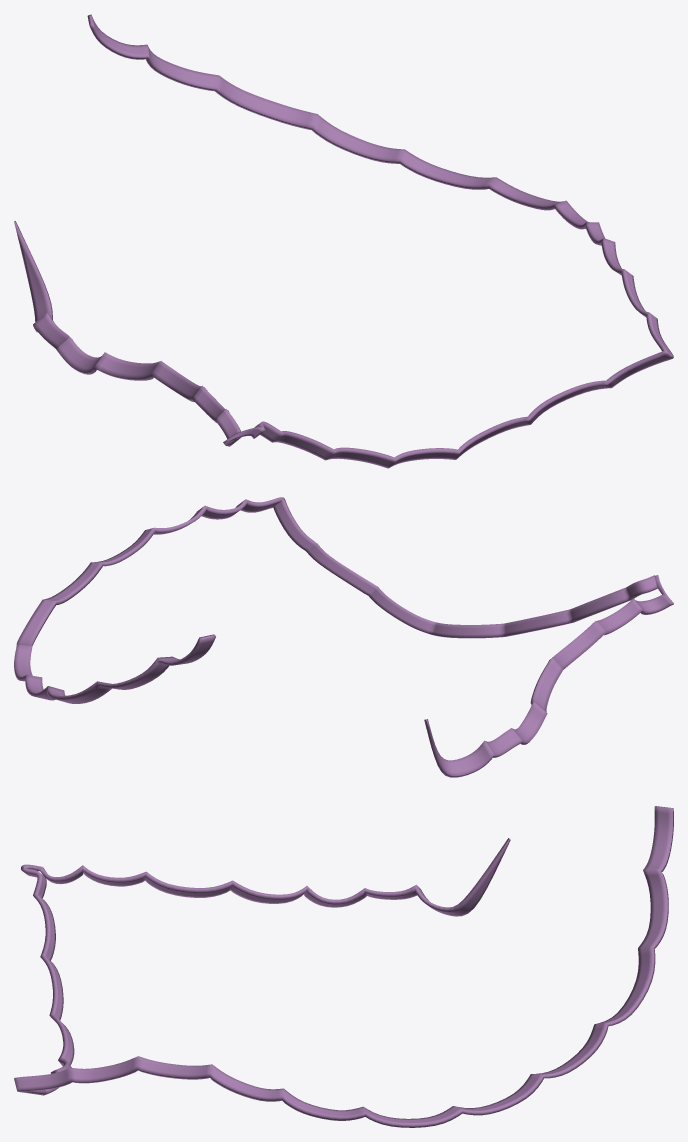
The picture shows the model from 3 angles, top to bottom: view 1: azimuth 30°, elevation 25°; view 2: azimuth 150°, elevation 25°; view 3: azimuth 270°, elevation 25°; orthographic projection. The views are drawn at different scales.
Visible parts, largest first — view 1: 网膜带; view 2: 网膜带; view 3: 网膜带.
Part boxes in pixels (x1,y1,x2,y2): 网膜带: [14, 14, 673, 468]; 网膜带: [14, 497, 673, 777]; 网膜带: [14, 806, 673, 1127].
Bounding box in the file's own units: 0.2656 × 0.1173 × 0.3003.
